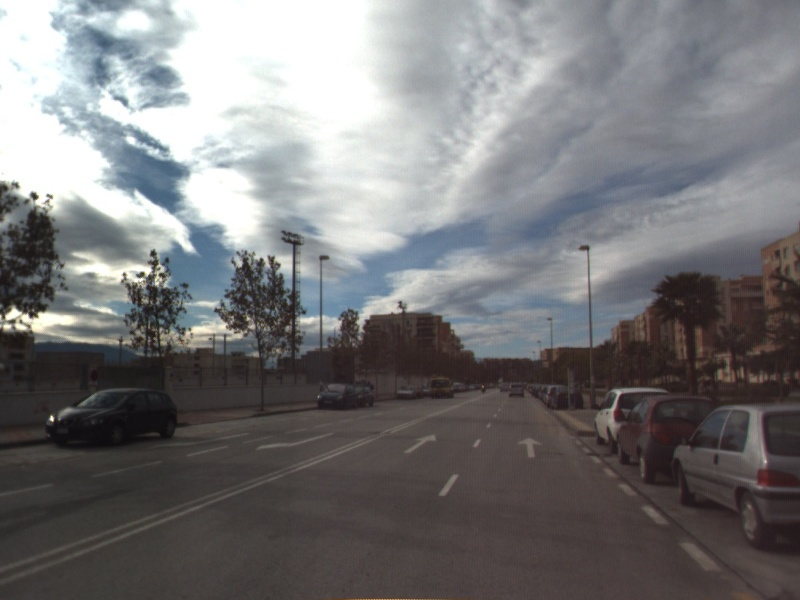STRAIGHT: (402, 432, 439, 455), (515, 435, 545, 460)
